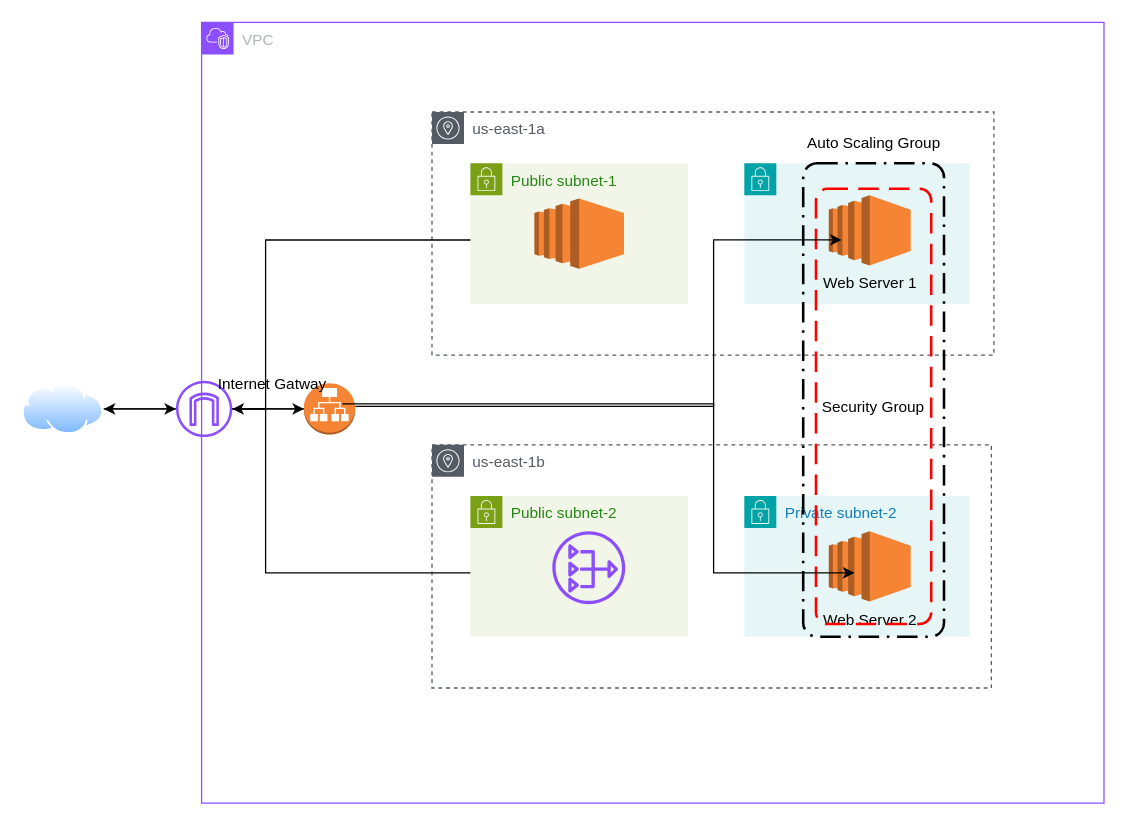
The diagram is 1126 pixels wide and 826 high, and some of its shapes have lost their labels. Each missing label, with the box of its shape:
Bastion-host: (533, 197, 624, 269)
Internet: (22, 383, 103, 434)
Nat-Gatway: (552, 531, 625, 604)
Private subnet-1: (743, 162, 970, 304)
